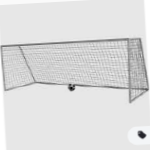goals: (1, 37, 150, 104)
